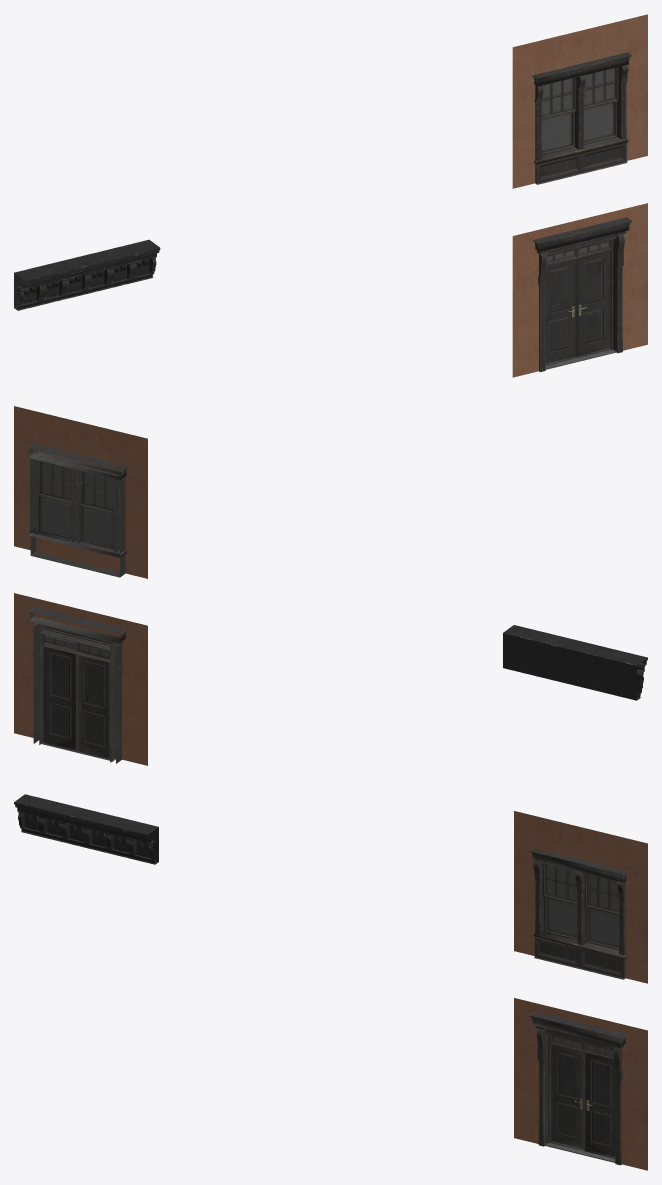
Rendered from modular_urban_apartments_facade.glb.
3 renders of one model, top to bottom at view 1: azimuth 30°, elevation 25°; view 2: azimuth 150°, elevation 25°; view 3: azimuth 330°, elevation 25°, orthographic.
Visible parts, largest first — view 1: door_centered_large_01, window_centered_large_01, wall_window_centered_large_01, wall_door_centered_large_01, crown_standard_standard_01; view 2: door_centered_large_01, wall_window_centered_large_01, window_centered_large_01, wall_door_centered_large_01, crown_standard_standard_01; view 3: door_centered_large_01, window_centered_large_01, wall_window_centered_large_01, wall_door_centered_large_01, crown_standard_standard_01.
Part boxes in pixels (box(x1,y1,x2,y2)): door_centered_large_01: box(533, 217, 632, 372); window_centered_large_01: box(532, 52, 631, 184); wall_window_centered_large_01: box(512, 14, 647, 188); wall_door_centered_large_01: box(512, 203, 647, 377); crown_standard_standard_01: box(14, 239, 160, 310); door_centered_large_01: box(28, 607, 127, 763); wall_window_centered_large_01: box(14, 406, 147, 578); window_centered_large_01: box(27, 443, 128, 577); wall_door_centered_large_01: box(14, 593, 147, 765); crown_standard_standard_01: box(503, 625, 647, 700); door_centered_large_01: box(529, 1011, 627, 1165); window_centered_large_01: box(530, 848, 628, 979); wall_window_centered_large_01: box(514, 811, 647, 983); wall_door_centered_large_01: box(514, 998, 647, 1170); crown_standard_standard_01: box(14, 794, 158, 864).
Bounding box in the file's own units: 14 × 7 × 0.57.
4 materials, 4 textured.
